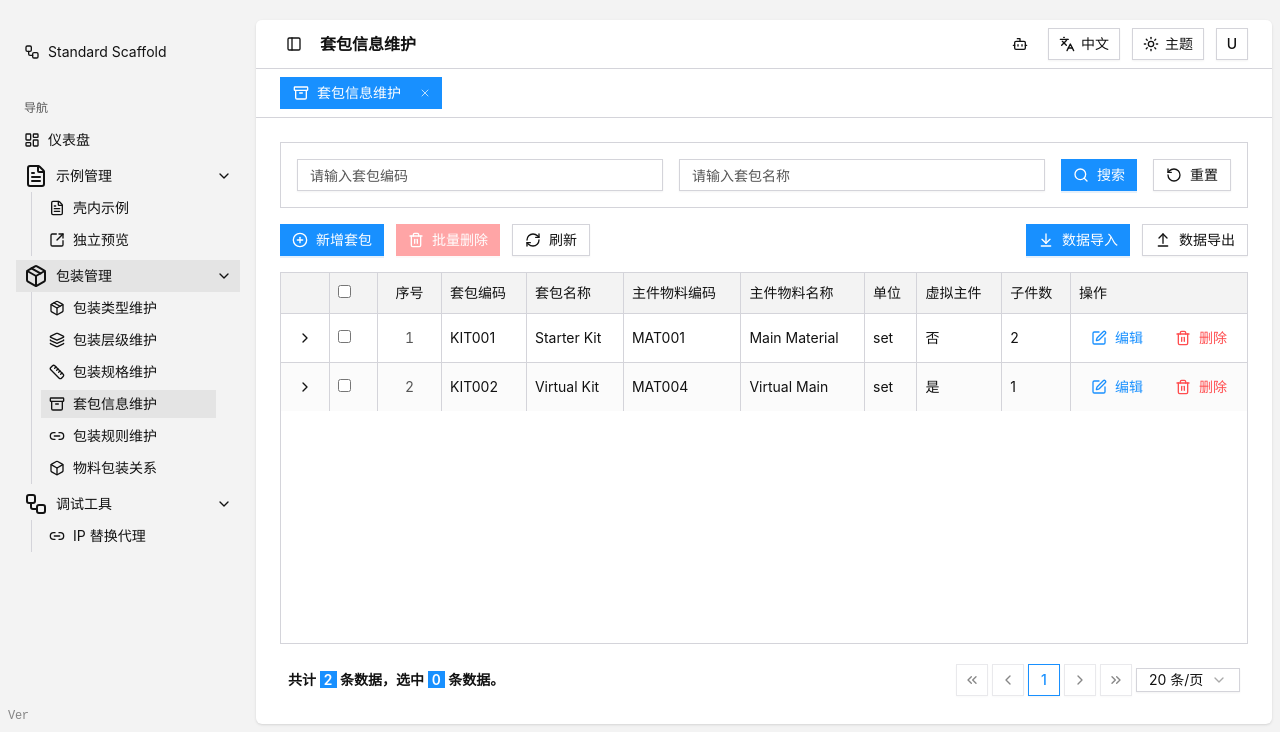
Test case: PackagingKitPage › renders packaging kits, submits filters, and shows child details
The width and height of the screenshot is (1280, 732).
Expected: the button "新增套包" is shown, left=280, top=224, right=384, bottom=256
Expected: the button "搜索" is shown, left=1061, top=159, right=1137, bottom=191
Type "KIT002" into the field labelled "套包编码" at (480, 175), box left=297, top=159, right=663, bottom=191
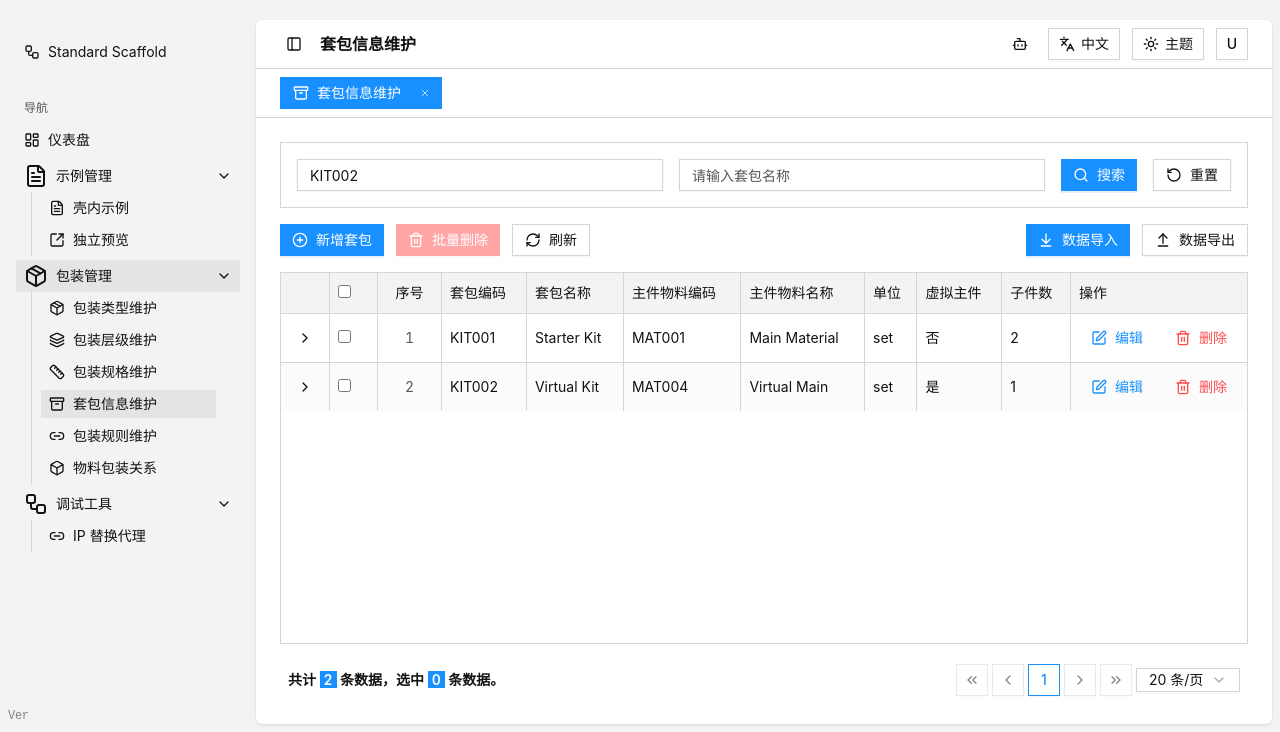
Click the button "搜索" at (1099, 175), box left=1061, top=159, right=1137, bottom=191
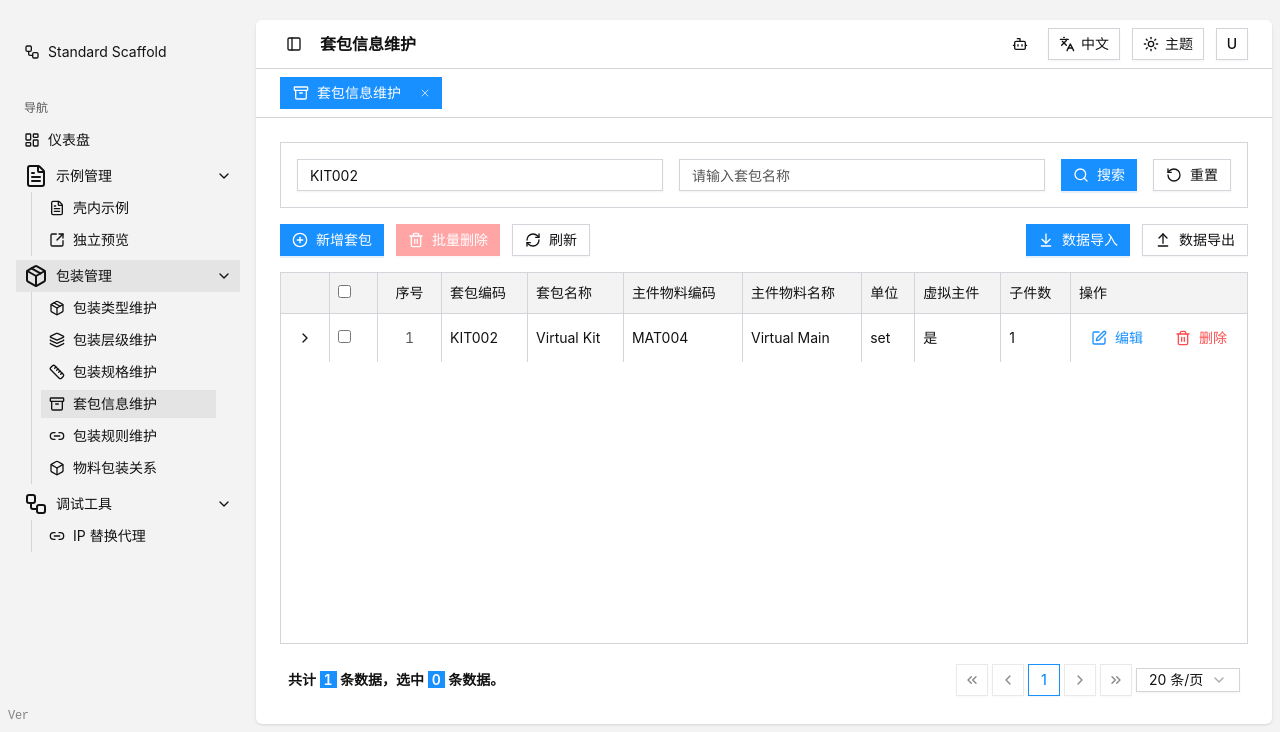
Expected: the text "Virtual Kit" is shown, left=528, top=313, right=623, bottom=362
Click the button named "展开 KIT002" in the row of "KIT002" at (305, 338), box left=289, top=322, right=321, bottom=354
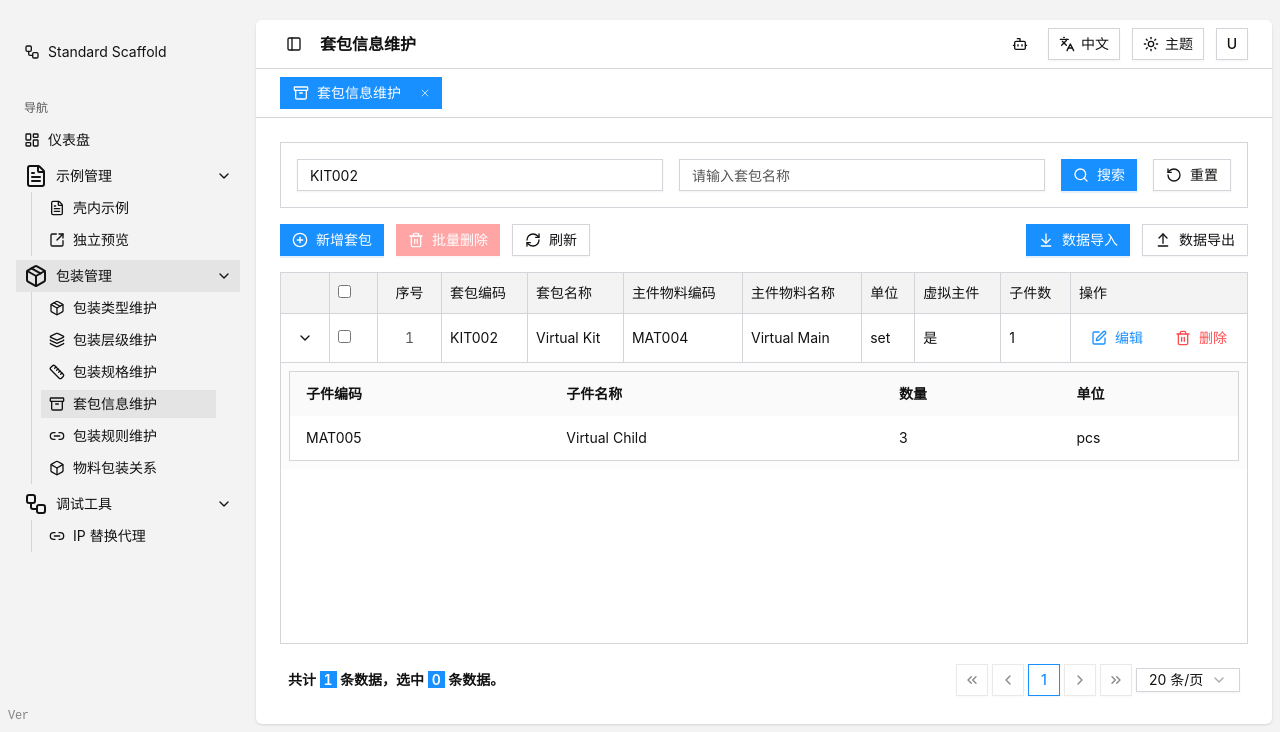
Expected: the element with test id "packaging-kit-children-KIT002" is shown, left=289, top=370, right=1239, bottom=460
Expected: the text "Virtual Child" is shown, left=550, top=416, right=883, bottom=460
